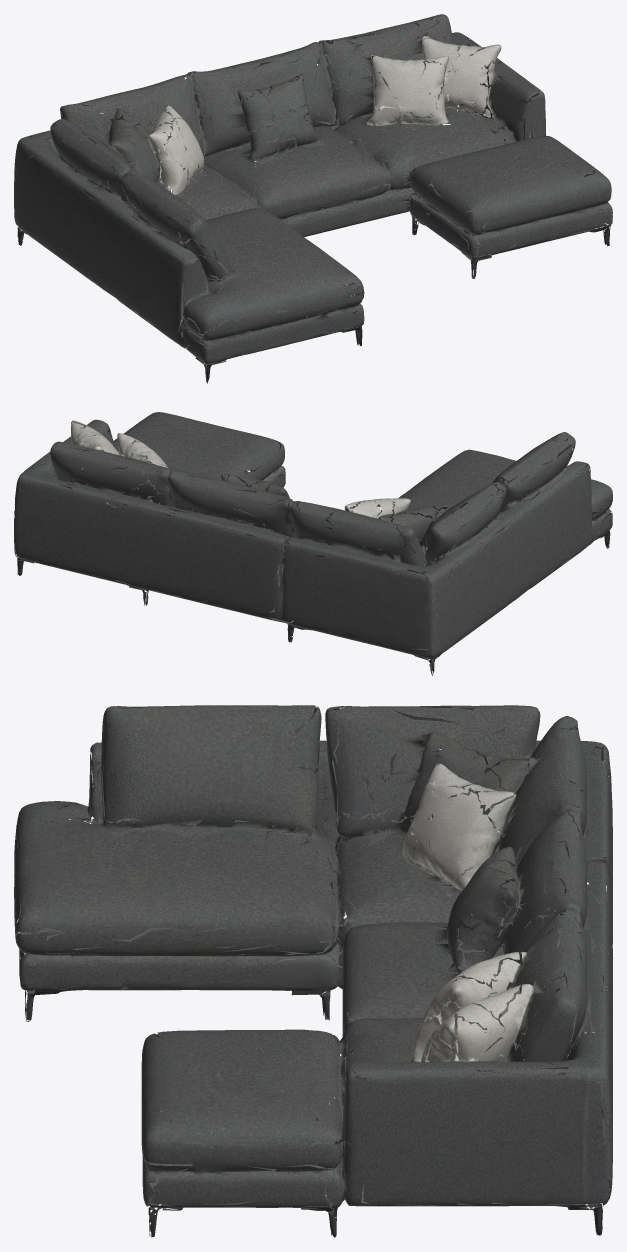
File: sofa.glb
3 renders of one model, top to bottom at view 1: azimuth 30°, elevation 25°; view 2: azimuth 150°, elevation 25°; view 3: azimuth 270°, elevation 25°, orthographic. The views are drawn at different scales.
Size of the model in its own units: 1.9 by 0.5723 by 1.42.
1 material, 1 textured.
